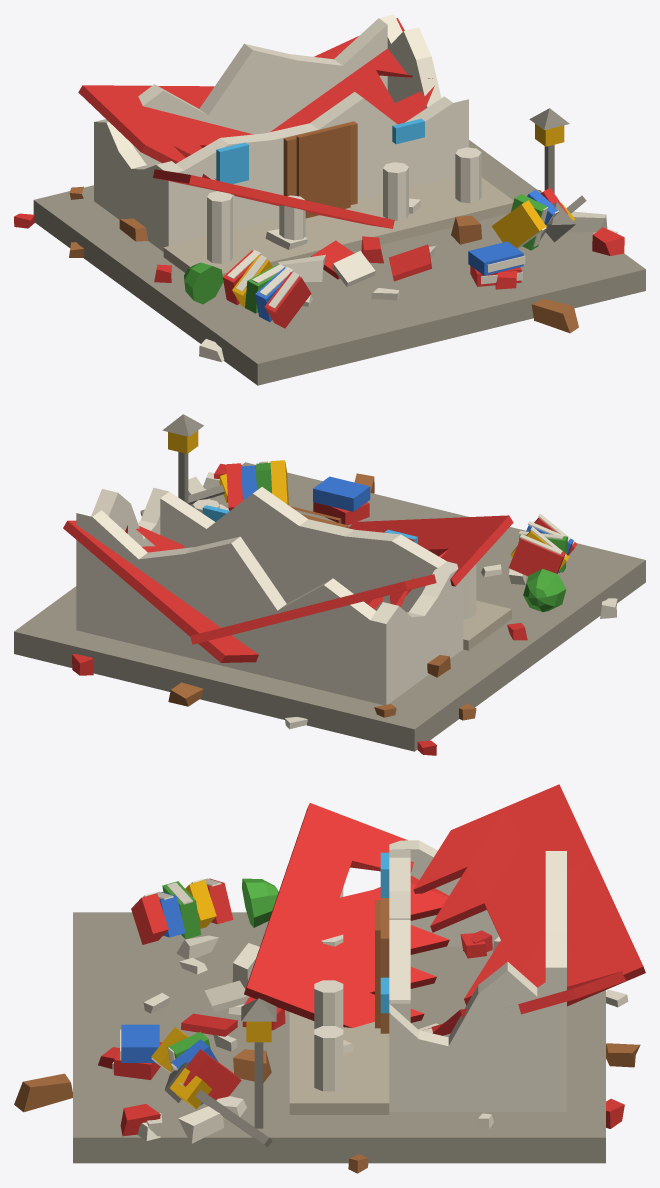
The model's file is library_t2_v3_dmg2.glb.
The picture shows the model from 3 angles, top to bottom: view 1: azimuth 30°, elevation 25°; view 2: azimuth 150°, elevation 25°; view 3: azimuth 270°, elevation 25°; orthographic projection. The views are drawn at different scales.
Parts seen in each view (by area): view 1: library_t2_v3_dmg2; view 2: library_t2_v3_dmg2; view 3: library_t2_v3_dmg2.
Boxes of the visible parts, x1,y1,x2,y2 form: library_t2_v3_dmg2: [14, 14, 645, 385]; library_t2_v3_dmg2: [14, 414, 645, 755]; library_t2_v3_dmg2: [14, 784, 645, 1173].
Bounding box in the file's own units: 0.8305 × 0.265 × 0.889.
Materials: 1 (1 with a texture image).
